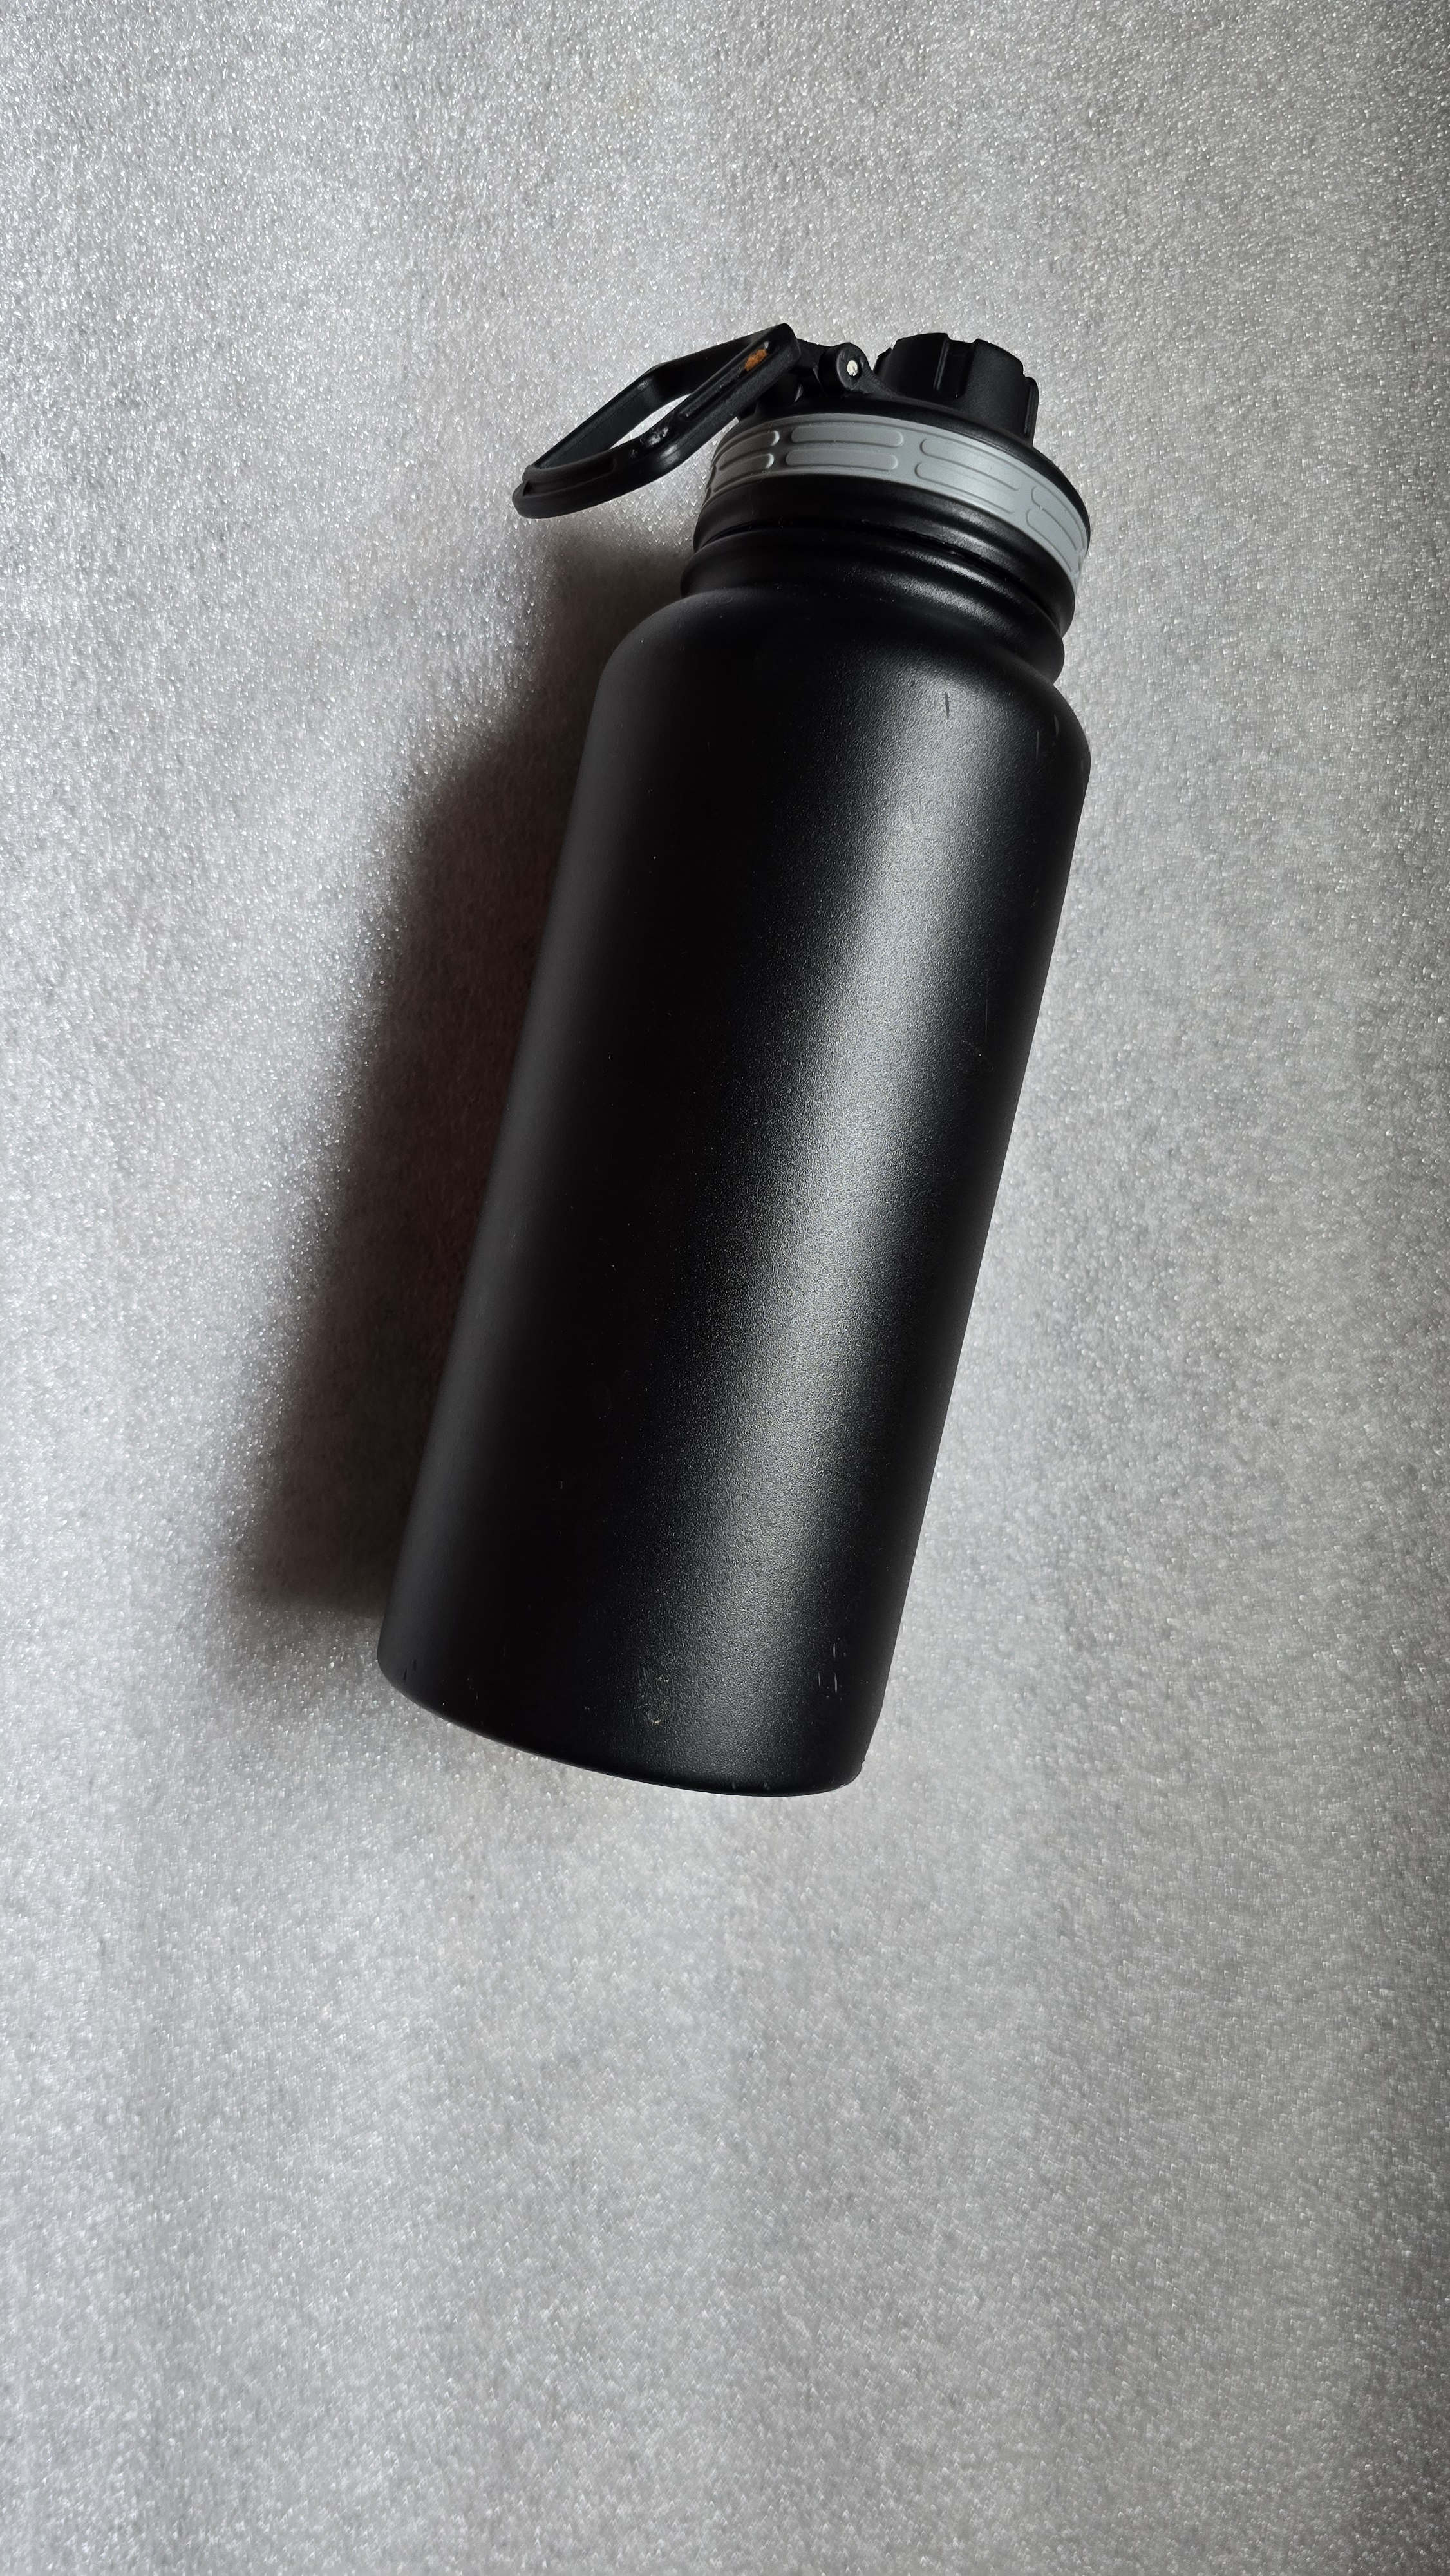bottle: (428, 249, 1114, 1838)
